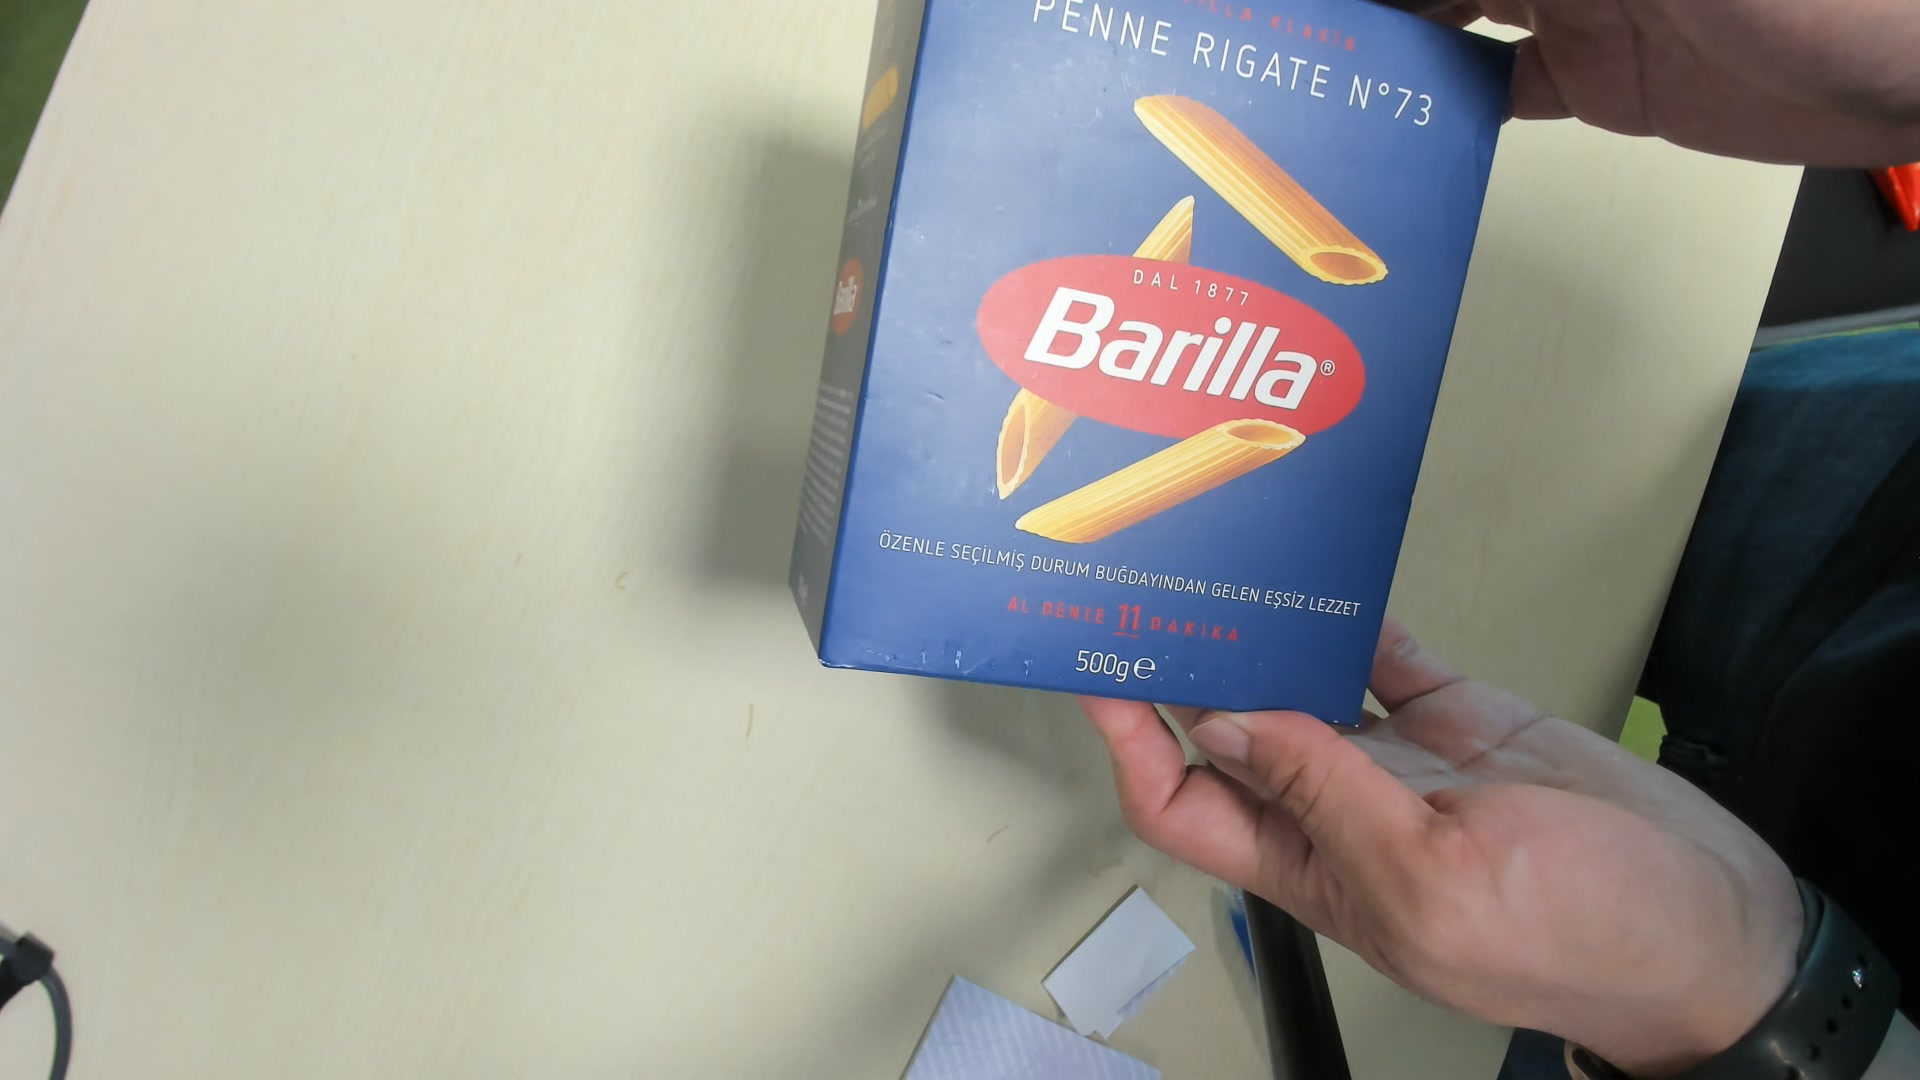Pasta_500-599g_NonHalal_NonHealthy: (785, 1, 1519, 727)
